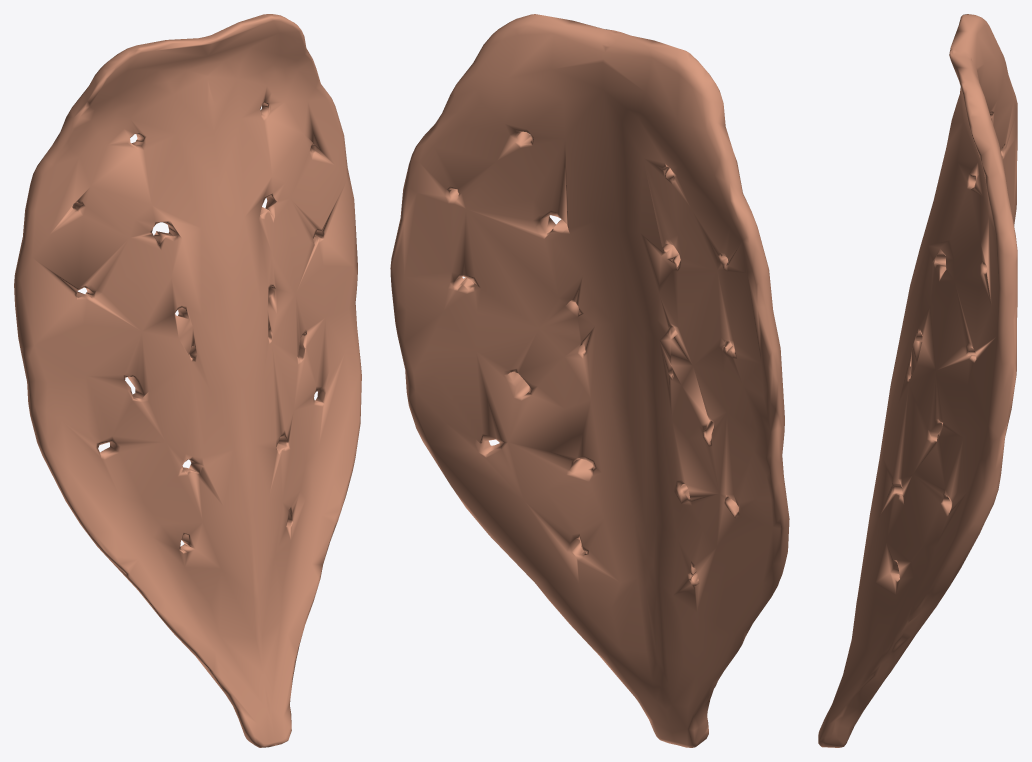
File: epiglottis.glb
The picture shows the model from 3 angles, left to right: view 1: azimuth 30°, elevation 25°; view 2: azimuth 150°, elevation 25°; view 3: azimuth 270°, elevation 25°; orthographic projection. The views are drawn at different scales.
Parts seen in each view (by area): view 1: Epiglottis; view 2: Epiglottis; view 3: Epiglottis.
Boxes of the visible parts, x1,y1,x2,y2 form: Epiglottis: (14,14,361,747); Epiglottis: (390,14,789,747); Epiglottis: (818,14,1017,747).
Bounding box in the file's own units: 0.0157 × 0.0295 × 0.00769.
